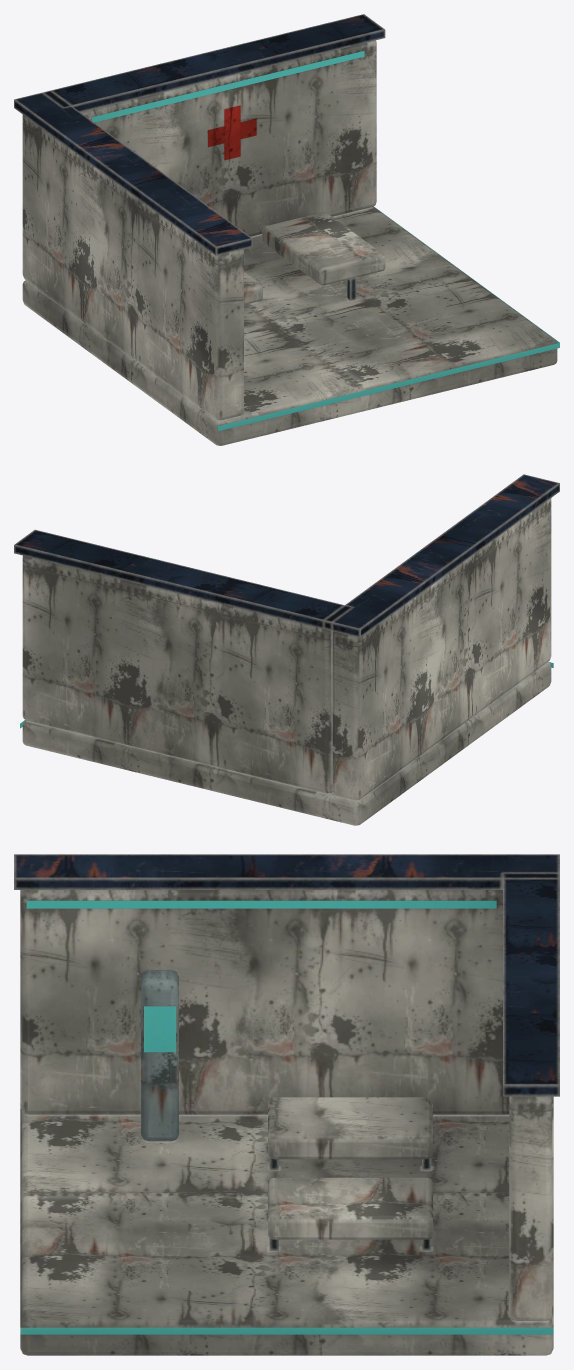
File: medical_center.glb
3 renders of one model, top to bottom at view 1: azimuth 30°, elevation 25°; view 2: azimuth 150°, elevation 25°; view 3: azimuth 270°, elevation 25°, orthographic. The views are drawn at different scales.
Visible parts, largest first — view 1: te_medical_center; view 2: te_medical_center; view 3: te_medical_center.
Boxes of the visible parts, x1=… form: te_medical_center: x1=14, y1=14, x2=559, y2=445; te_medical_center: x1=14, y1=474, x2=559, y2=825; te_medical_center: x1=14, y1=854, x2=559, y2=1355.
Bounding box in the file's own units: 0.86 × 0.48 × 0.86.
1 material, 1 textured.
